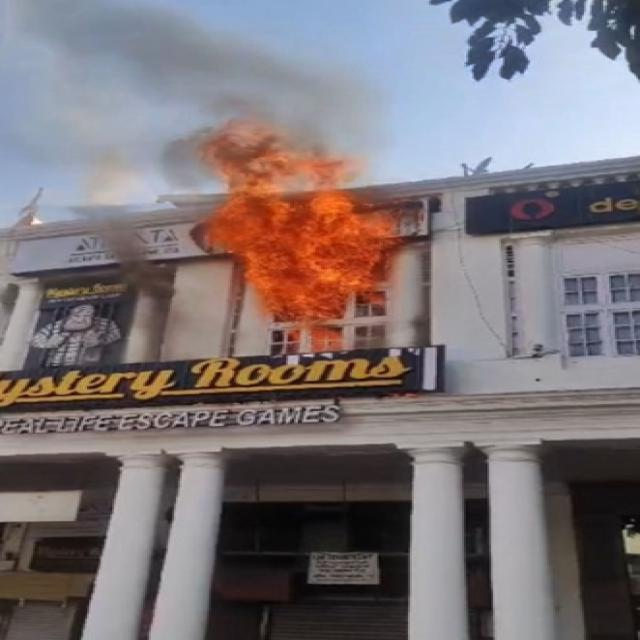fire: (190, 194, 404, 274), (193, 119, 363, 193), (243, 274, 385, 313), (273, 312, 345, 352)
